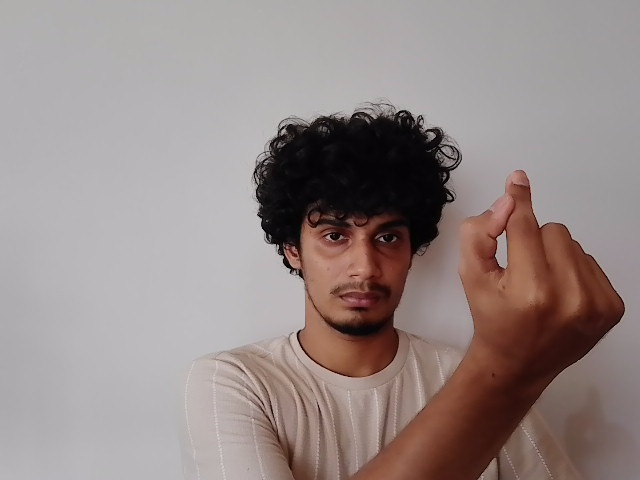just: (453, 166, 630, 372)
